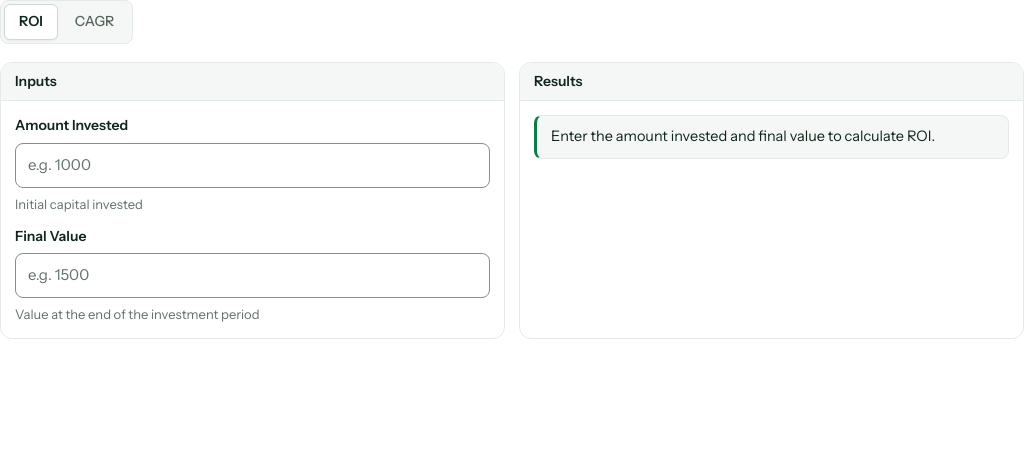
Test: RoiCalculator — CAGR mode › computes CAGR ≈ 25.99% for begin 1000, end 2000, 3 years
Click the tab "CAGR". click: click(95, 22)
box: [60,4,129,40]
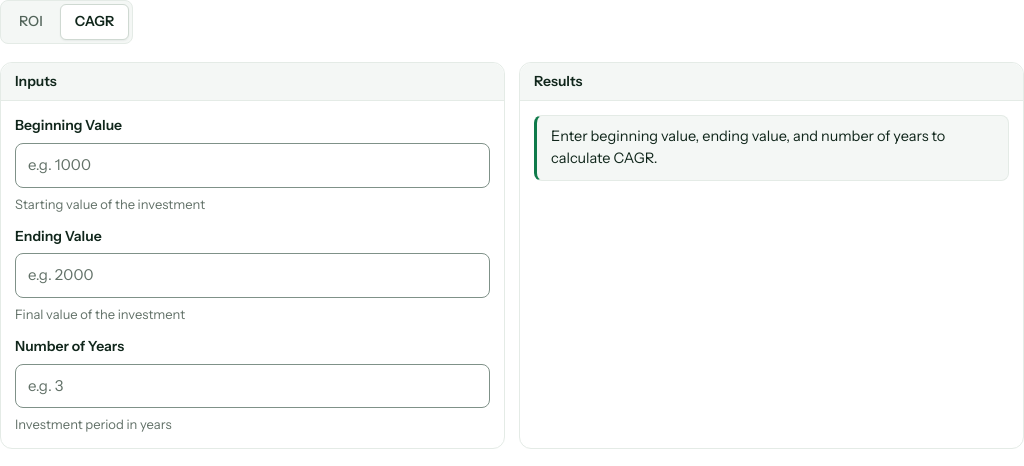
Type "1000" into the number field with placeholder "e.g. 1000". click: (252, 165)
box: [15,143,490,188]
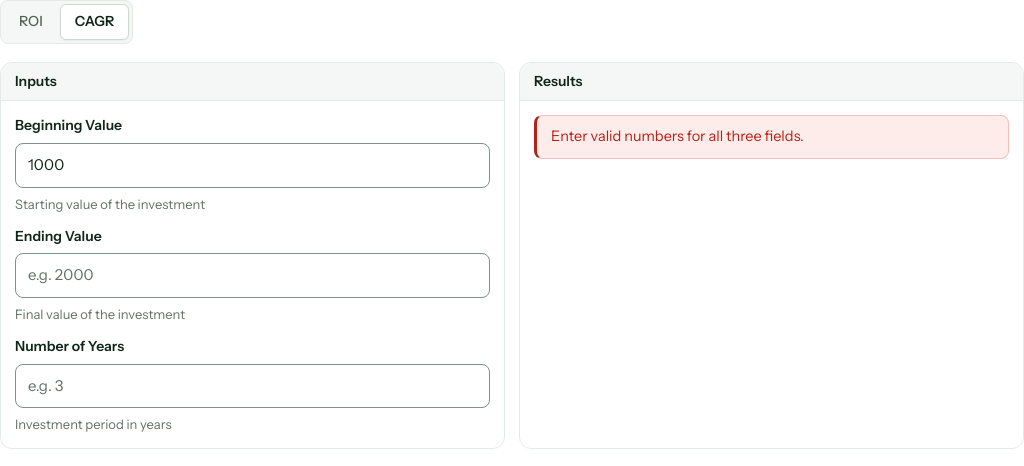
Type "2000" into the number field with placeholder "e.g. 2000". click: (252, 276)
box: [15,253,490,298]
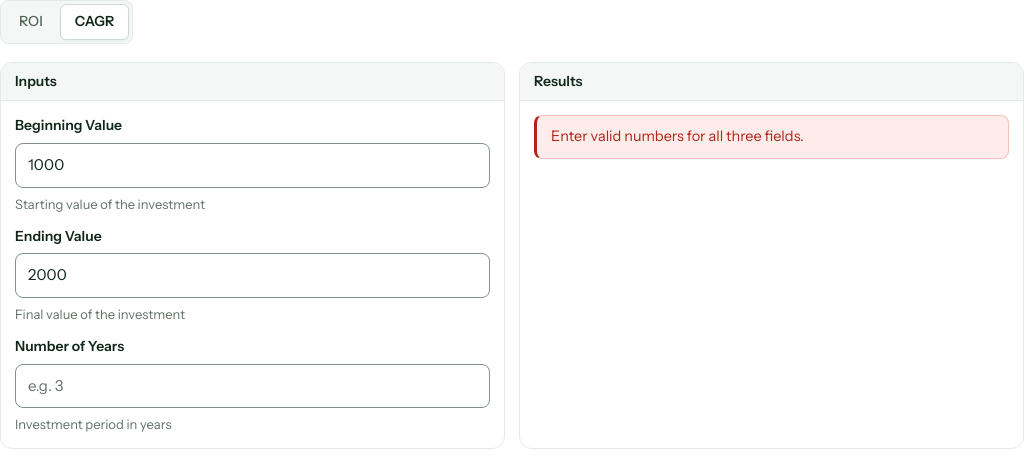
Type "3" into the number field with placeholder "e.g. 3". click: (252, 386)
box: [15,364,490,408]
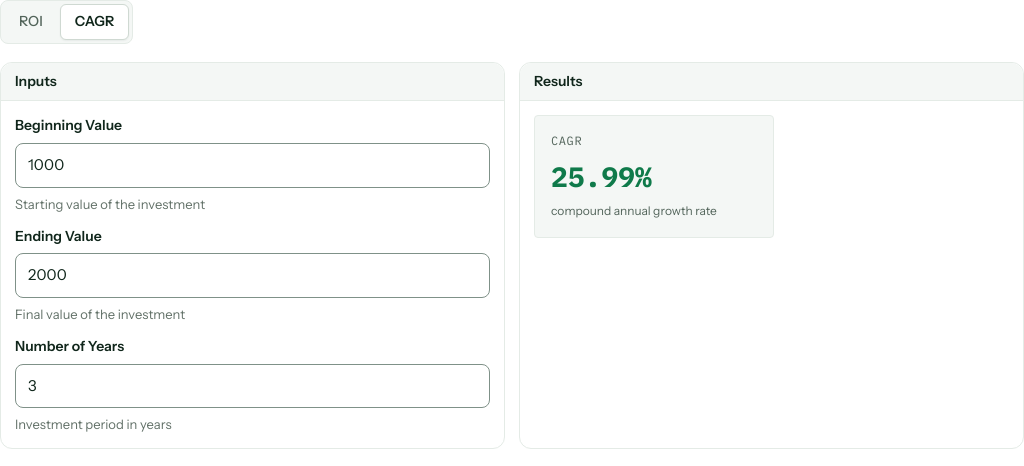
Now the text "25.99%" is shown, box [551,158,652,195]
